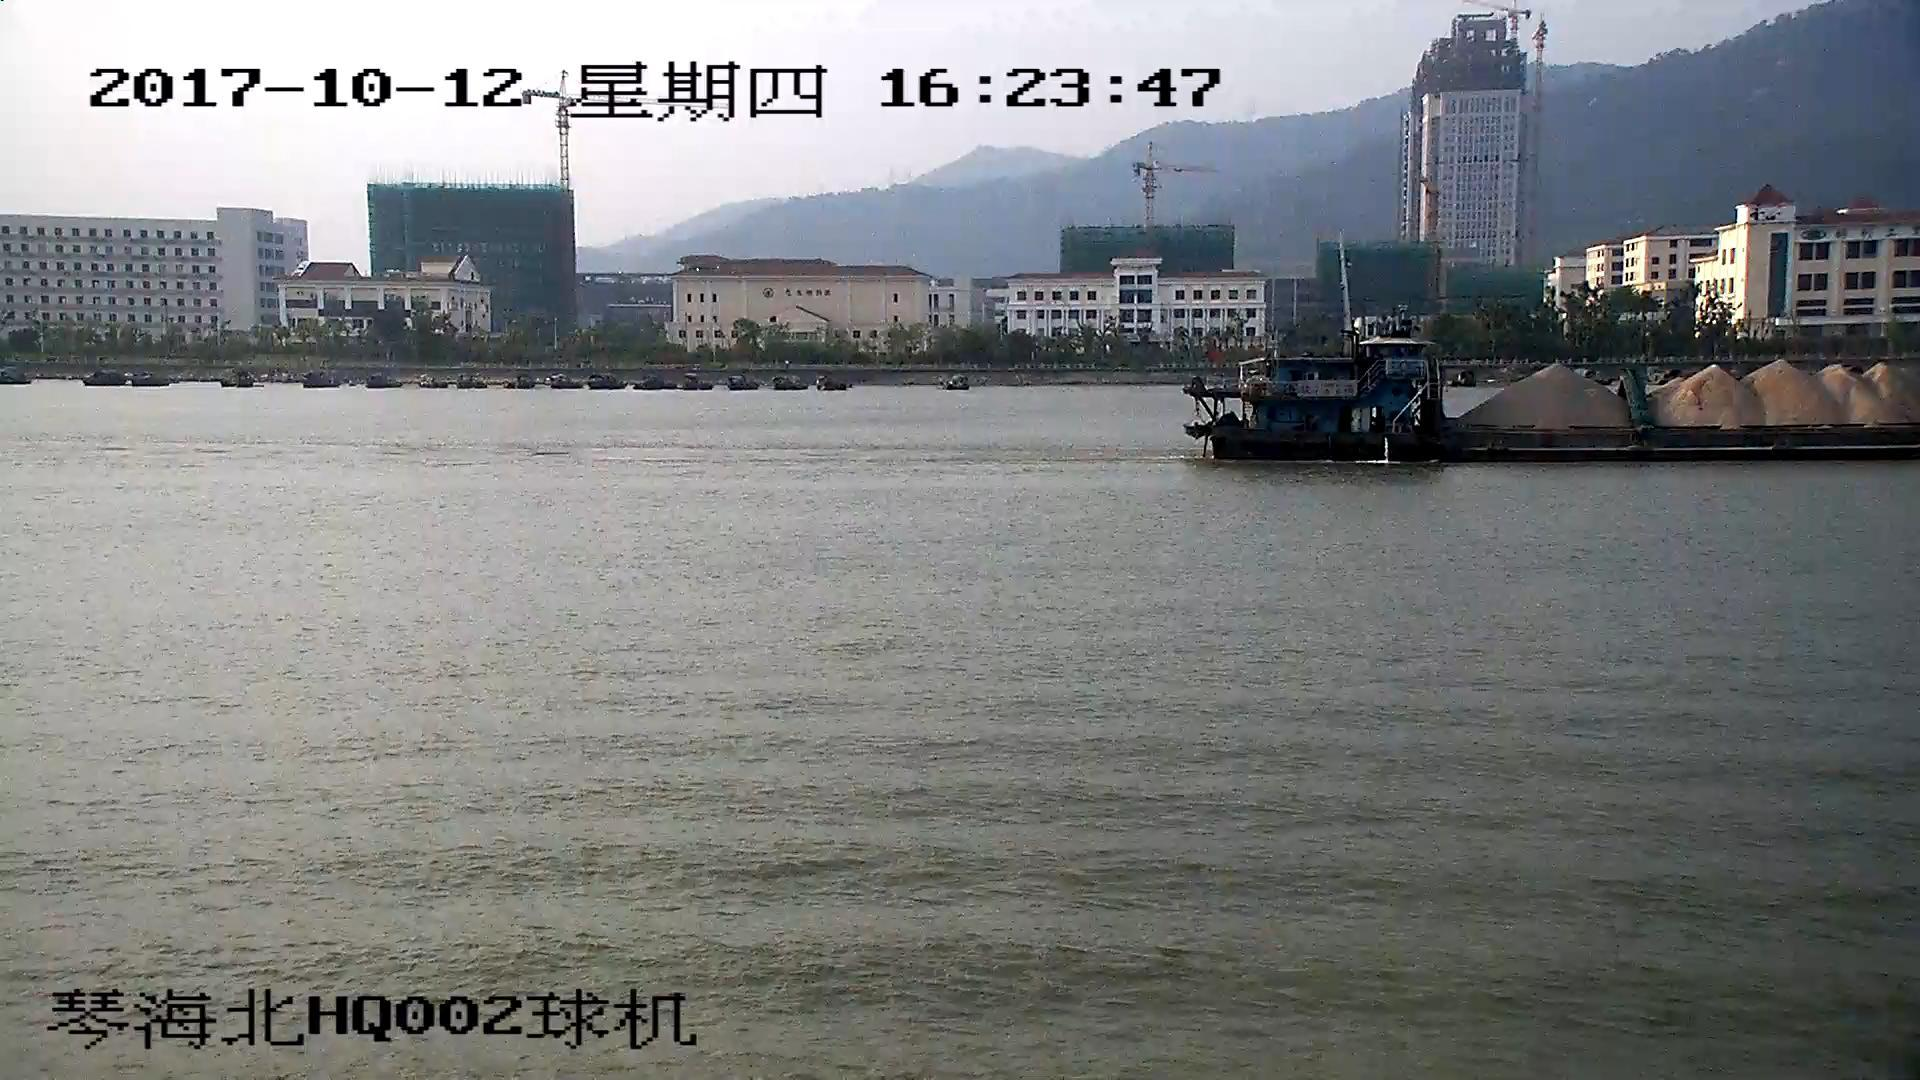Ship: (1195, 338, 1920, 468)
